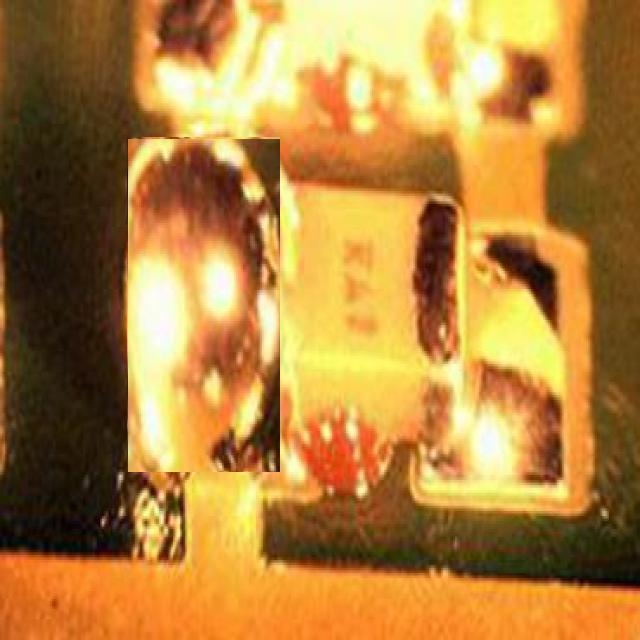redundant: (127, 138, 280, 472)
